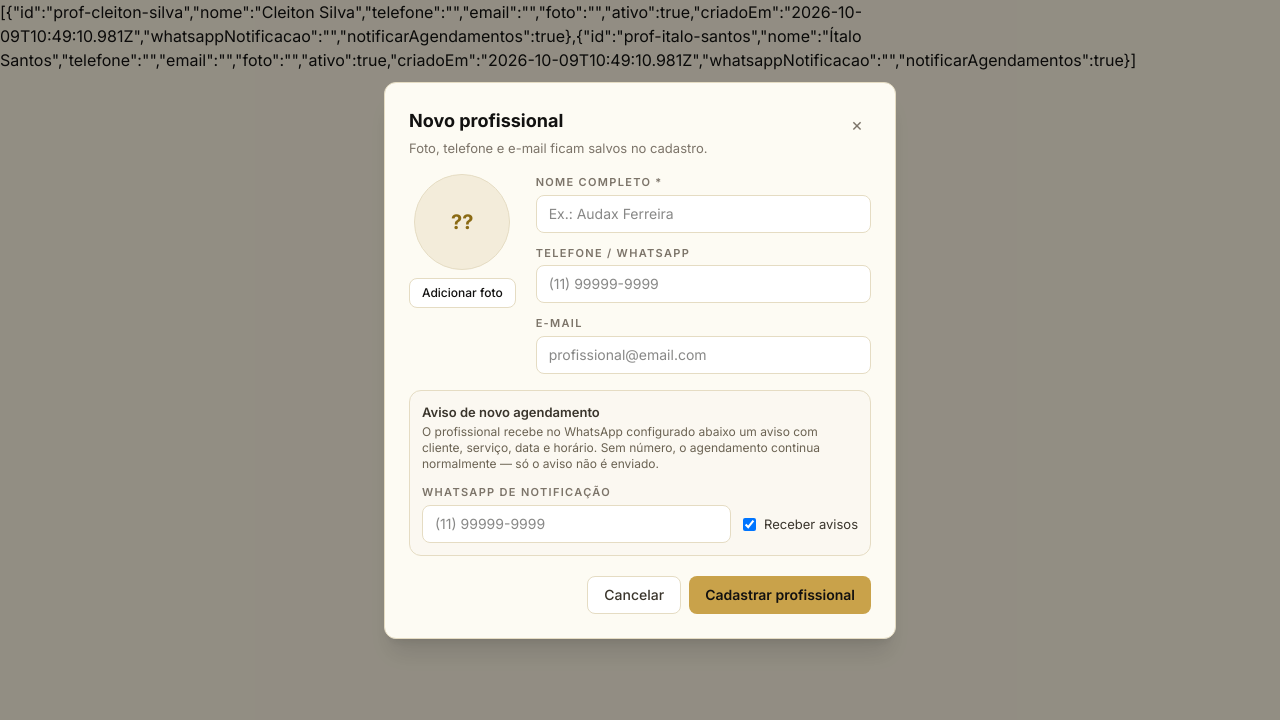
Test: ProfissionalFormModal — foto, telefone e e-mail › rejeita e-mail inválido sem salvar
The image size is (1280, 720).
Type "Diego Santos" into the field labelled "Nome completo *" at (703, 214), box [536, 194, 871, 232]
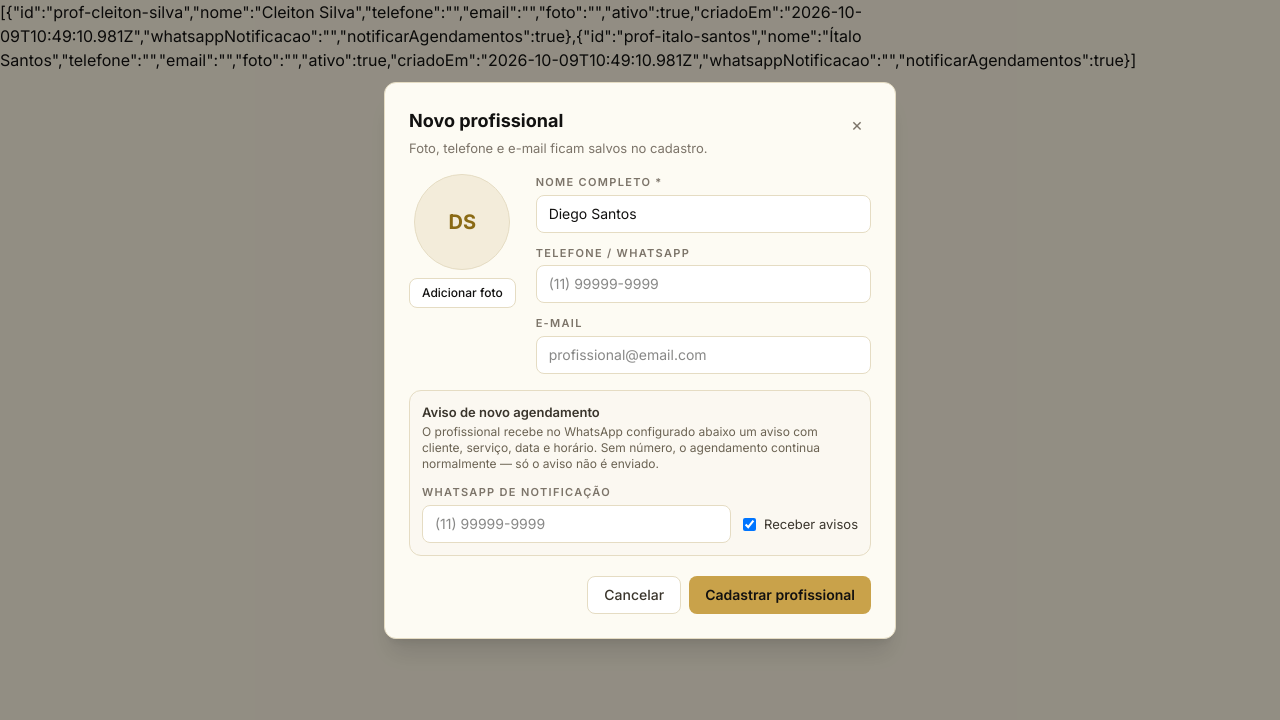
Type "nao-e-email" into the field labelled "E-mail" at (703, 354), box [536, 336, 871, 374]
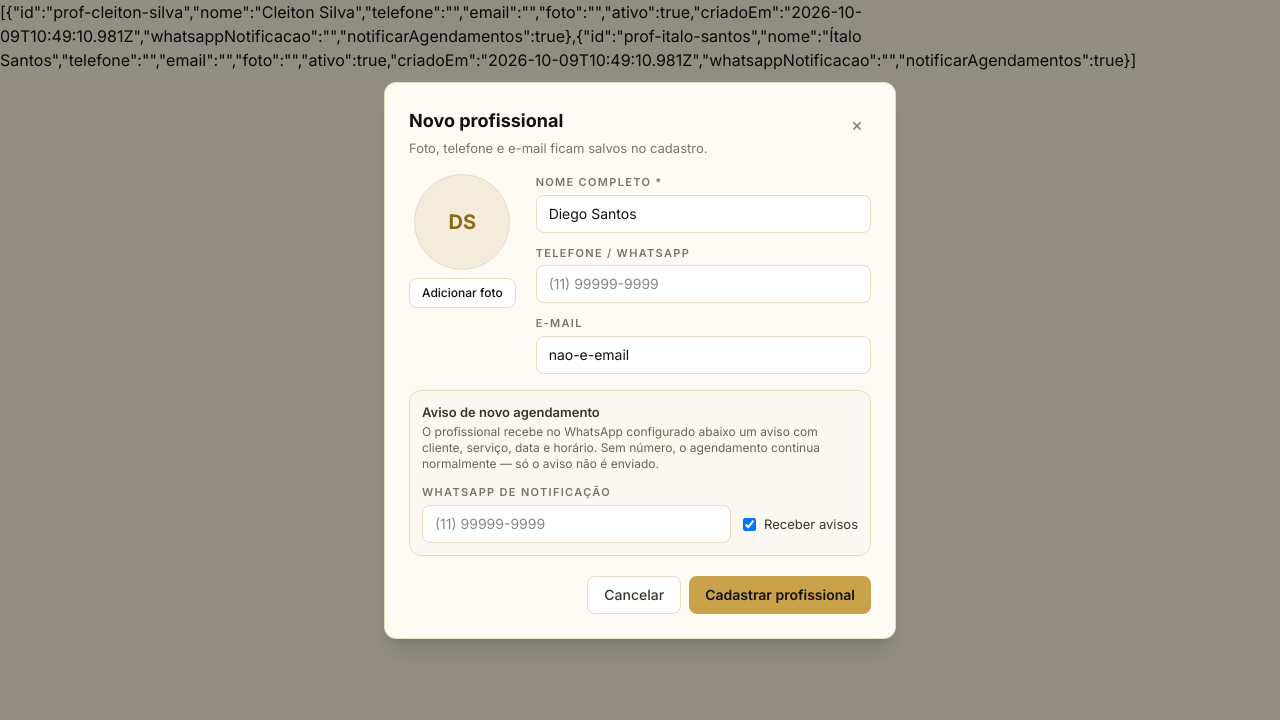
Click the button "Cadastrar profissional" at (780, 594), box [689, 576, 871, 614]
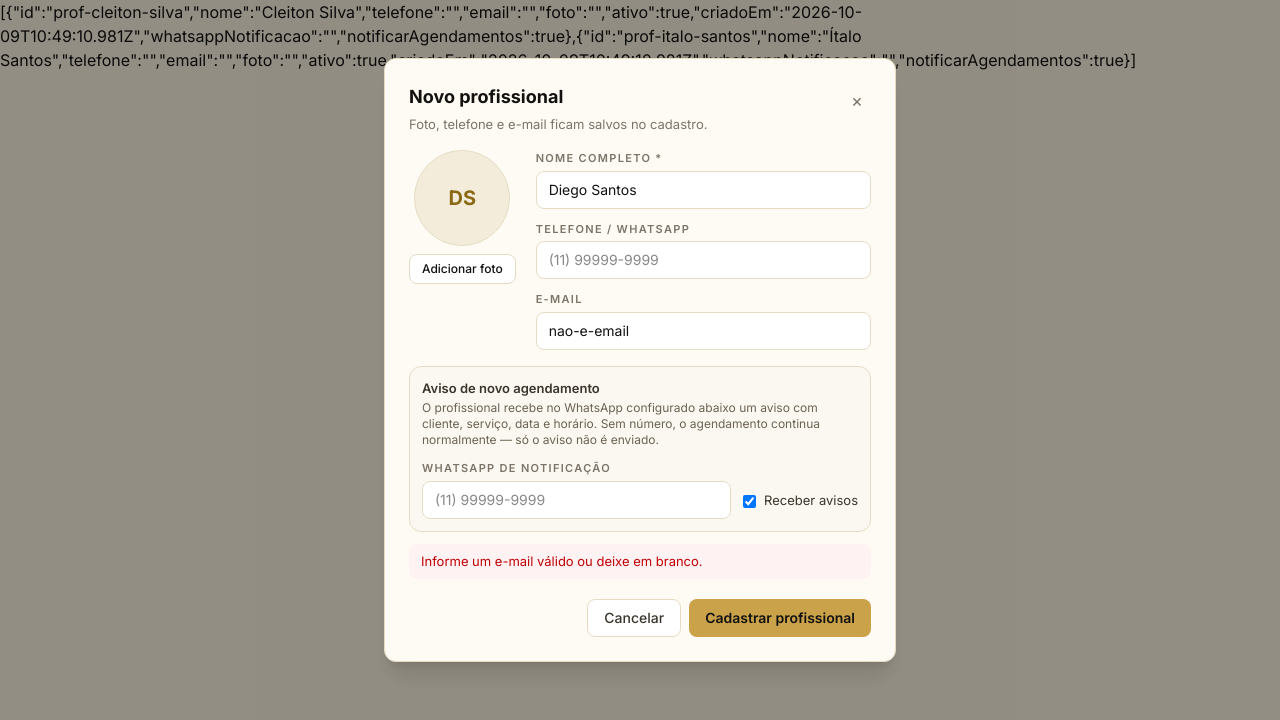
Check: the text "Informe um e-mail válido ou deixe em branco." is shown, box [409, 544, 871, 579]
